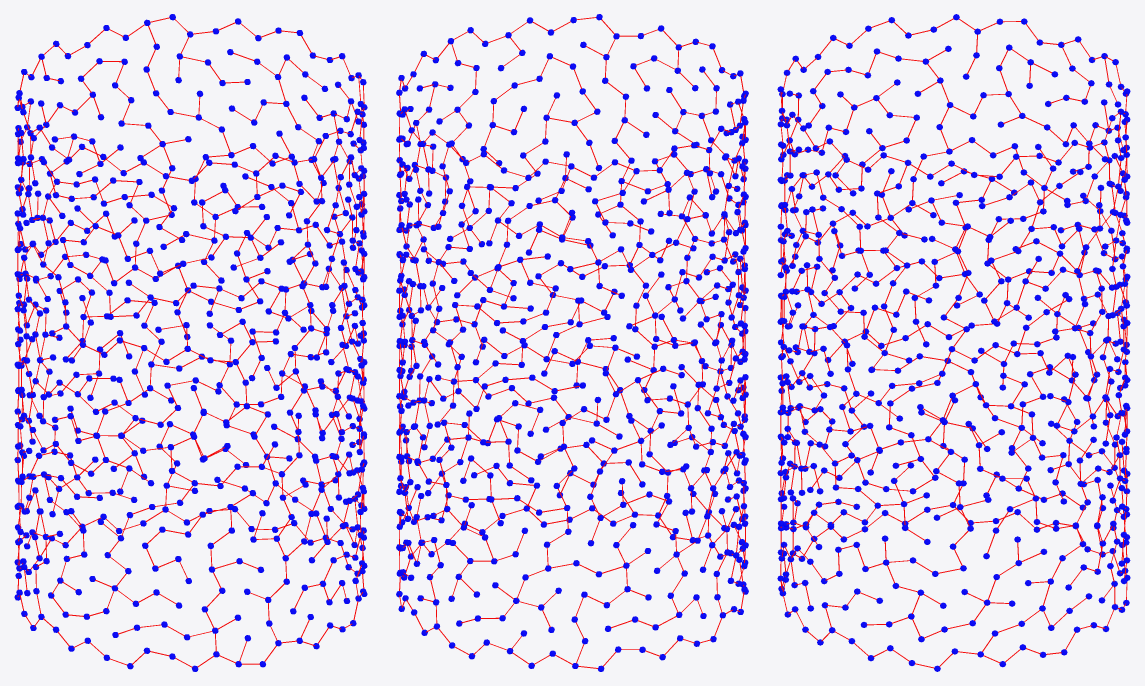
File: Kershner8TubeMaze.glb
3 views of the same model, side by side, from view 1: azimuth 30°, elevation 25°; view 2: azimuth 150°, elevation 25°; view 3: azimuth 270°, elevation 25° (orthographic).
Bounding box in the file's own units: 2.04 × 3.27 × 2.04.
